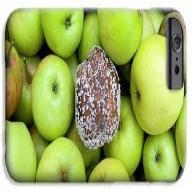apple: (72, 48, 126, 150), (134, 33, 186, 120), (32, 54, 70, 130), (106, 98, 144, 162), (40, 136, 85, 179), (98, 8, 138, 56), (142, 128, 178, 178), (4, 121, 36, 176), (44, 13, 81, 57), (11, 13, 40, 51), (76, 16, 106, 52), (91, 154, 128, 177)
